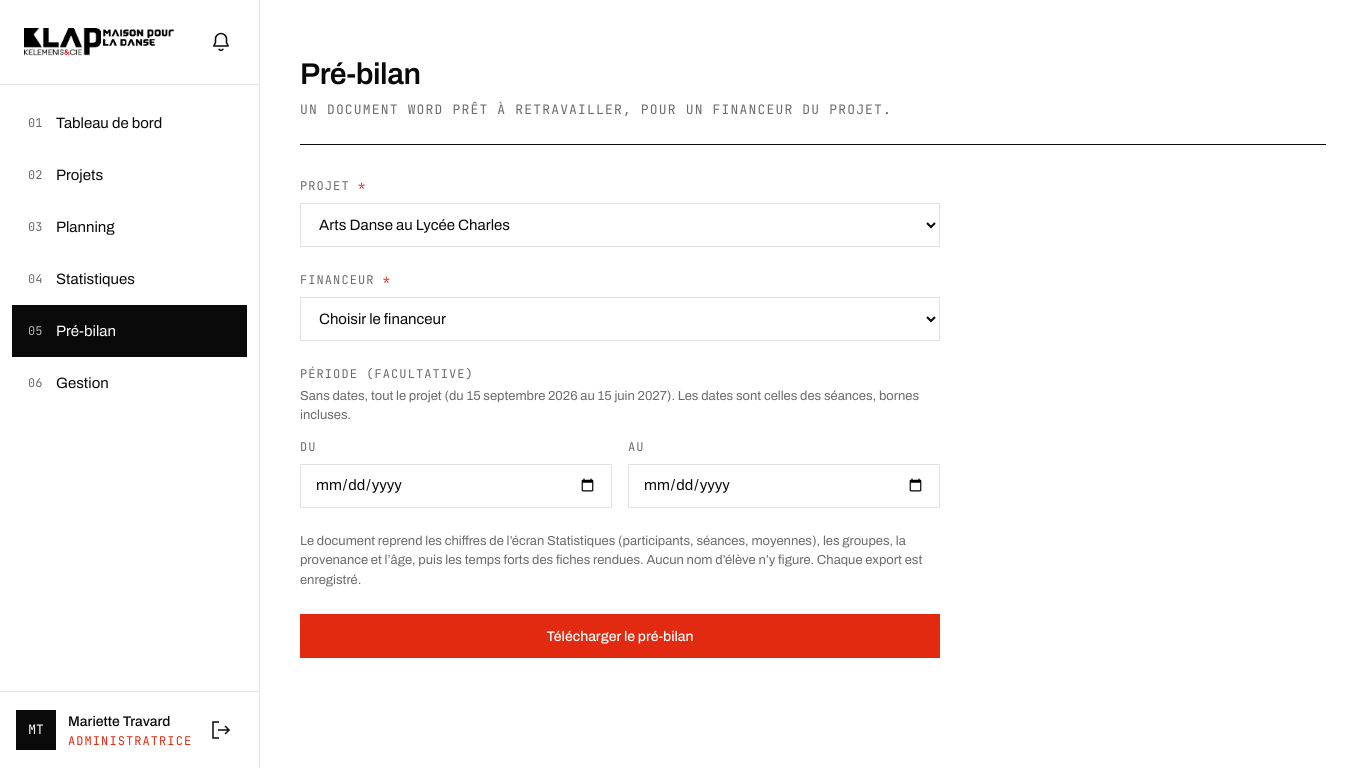
Test: Pré-bilan › affiche le refus de l’API sous le bon champ
Select "Ville de Marseille" in the dropdown labelled "Financeur *" at (620, 318), box [300,296,940,340]
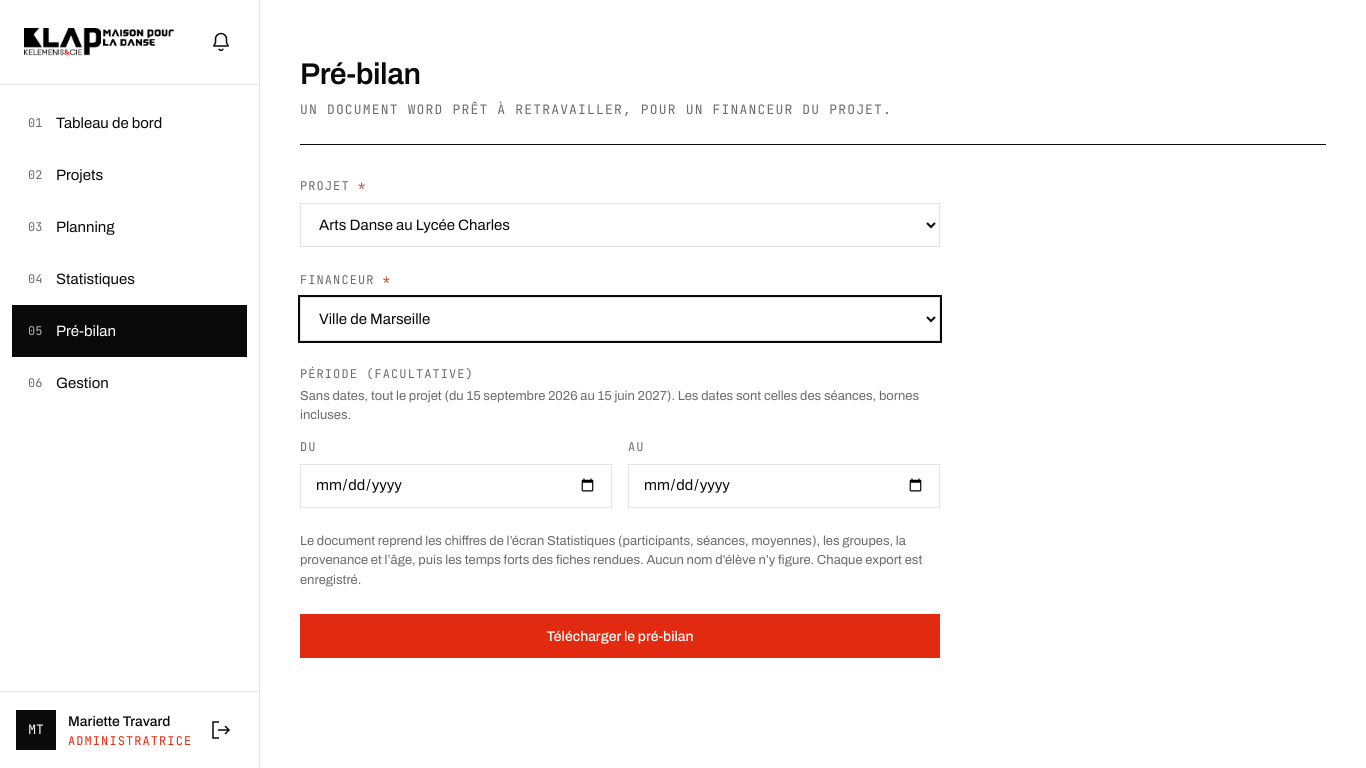
Click the button "Télécharger le pré-bilan" at (620, 636), box [300,614,940,658]
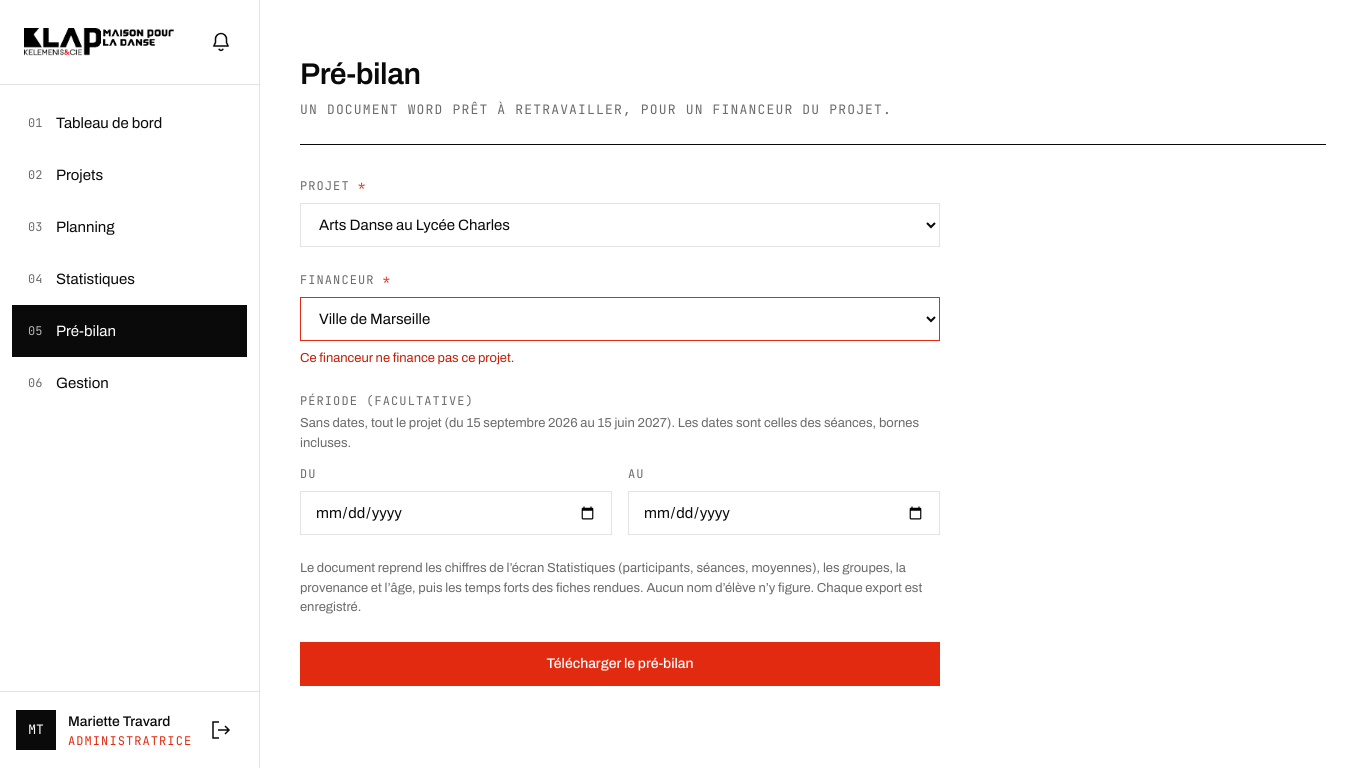
Expected: the text "Ce financeur ne finance pas ce projet." is shown, [300,350,514,364]
